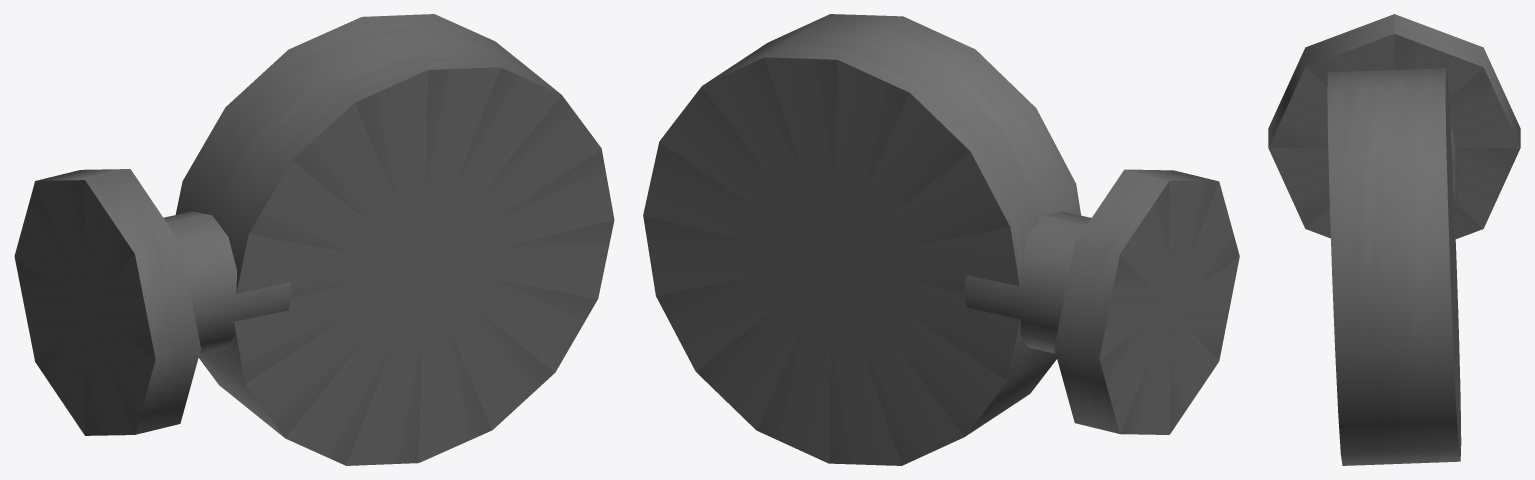
File: mastarmcurve_5x1_c5_west.obj
The picture shows the model from 3 angles, left to right: view 1: azimuth 30°, elevation 25°; view 2: azimuth 150°, elevation 25°; view 3: azimuth 270°, elevation 25°; orthographic projection. The views are drawn at different scales.
Parts seen in each view (by area): view 1: mastarm_5x1_c5_west; view 2: mastarm_5x1_c5_west; view 3: mastarm_5x1_c5_west.
Boxes of the visible parts, left/top/right/bottom form: mastarm_5x1_c5_west: left=14, top=14, right=614, bottom=465; mastarm_5x1_c5_west: left=643, top=14, right=1239, bottom=465; mastarm_5x1_c5_west: left=1268, top=14, right=1520, bottom=465.
Size of the model in its own units: 0.8119 by 0.632 by 0.4.
